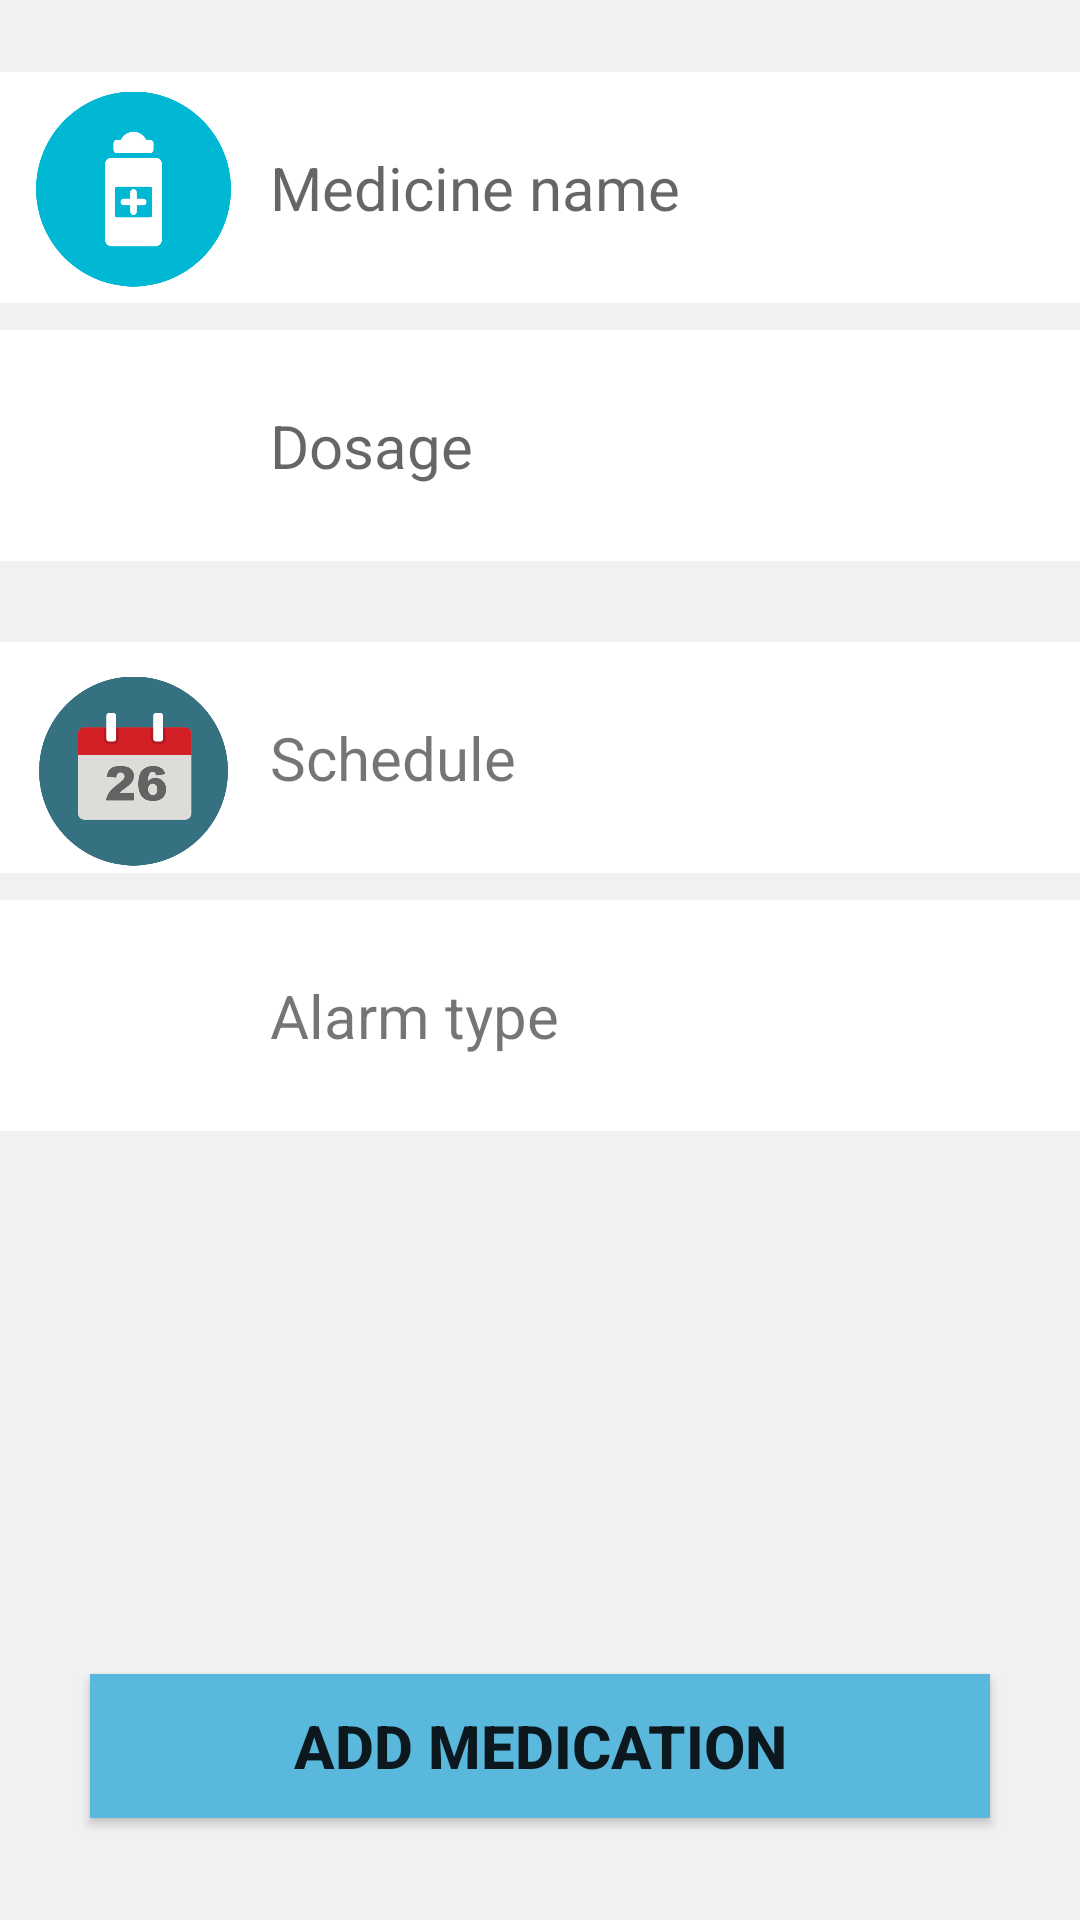

Named icons in this screenshot (1080*1920) and their bounding boxes, Rect(x1, y1, x2, y2):
calendar: Rect(39, 677, 228, 866)
